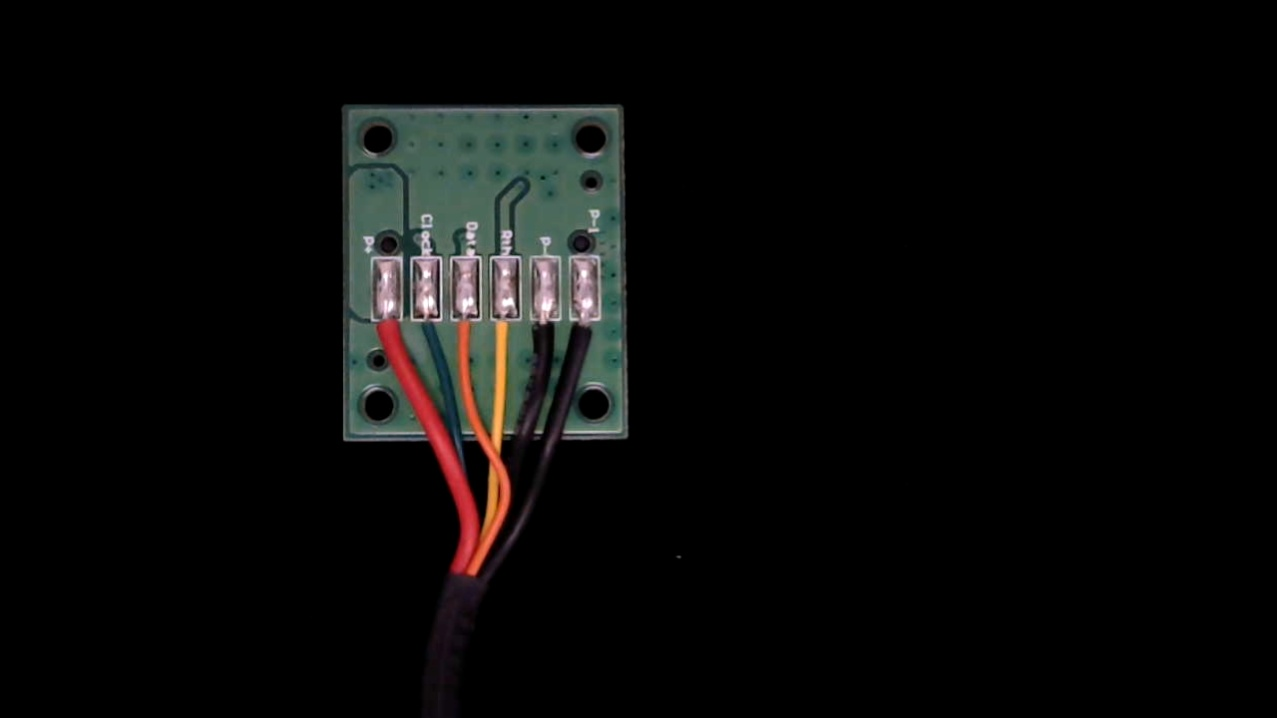Black: (530, 302, 561, 370)
Black1: (571, 302, 600, 363)
Green: (409, 303, 440, 365)
Orange: (450, 303, 479, 366)
Red: (372, 307, 404, 377)
Yellow: (491, 301, 520, 372)
